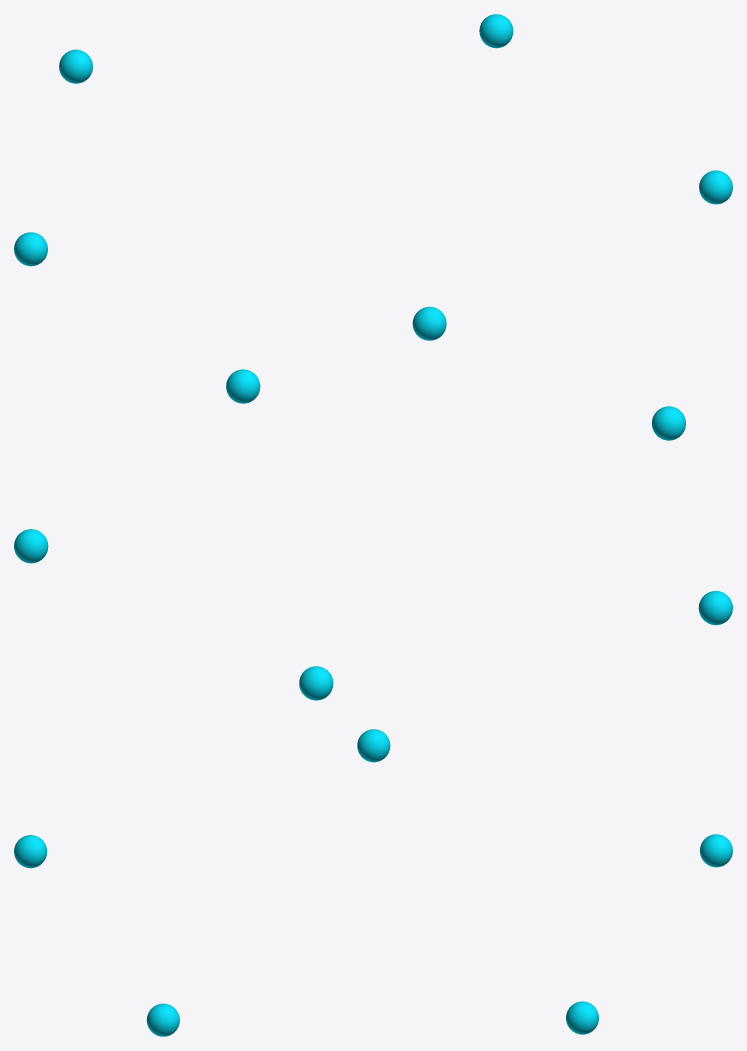
The picture shows the model from 3 angles, top to bottom: view 1: azimuth 30°, elevation 25°; view 2: azimuth 150°, elevation 25°; view 3: azimuth 270°, elevation 25°; orthographic projection. The views are drawn at different scales.
Parts seen in each view (by area): view 1: Sphere050; view 2: Sphere050; view 3: Sphere050.
Part boxes in pixels (bbox=[...]): Sphere050: bbox=[14, 14, 732, 340]; Sphere050: bbox=[14, 369, 732, 700]; Sphere050: bbox=[14, 729, 732, 1036].
Size of the model in its own units: 169 by 8.22 by 178.
